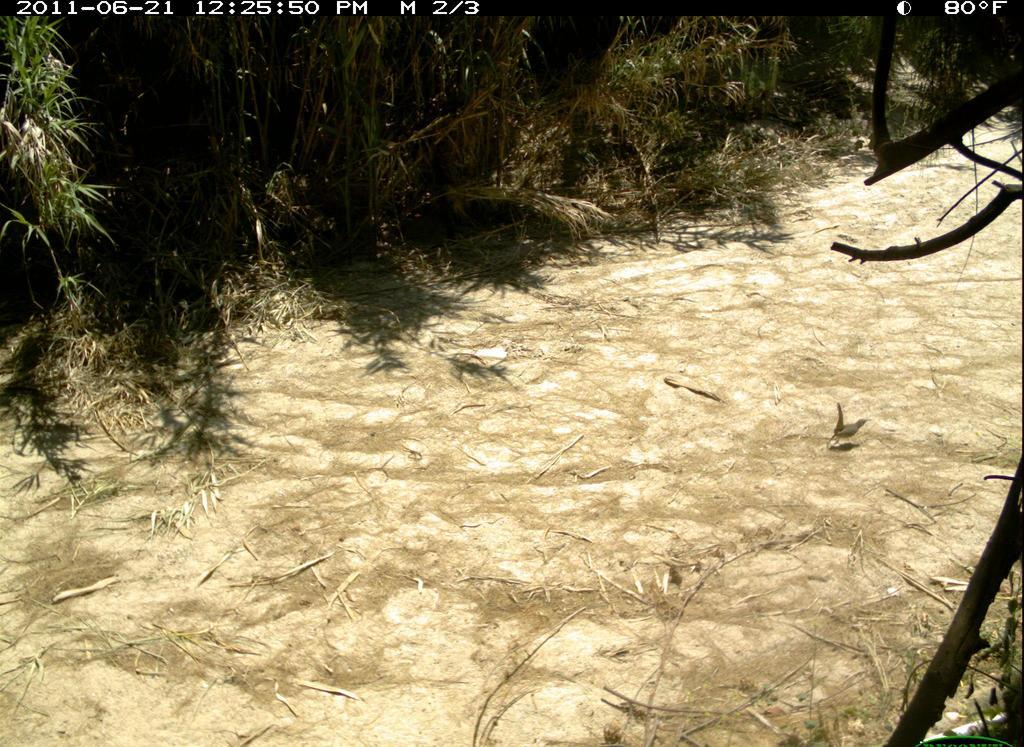bird: (829, 398, 873, 459)
